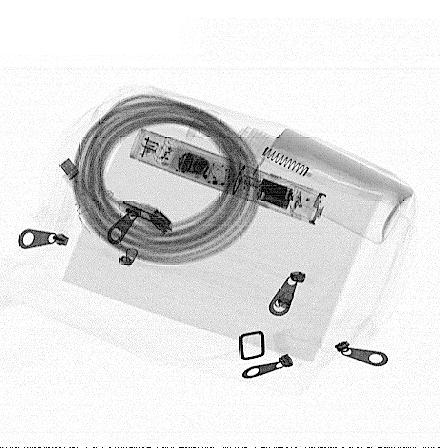Baton: (127, 127, 328, 228)
